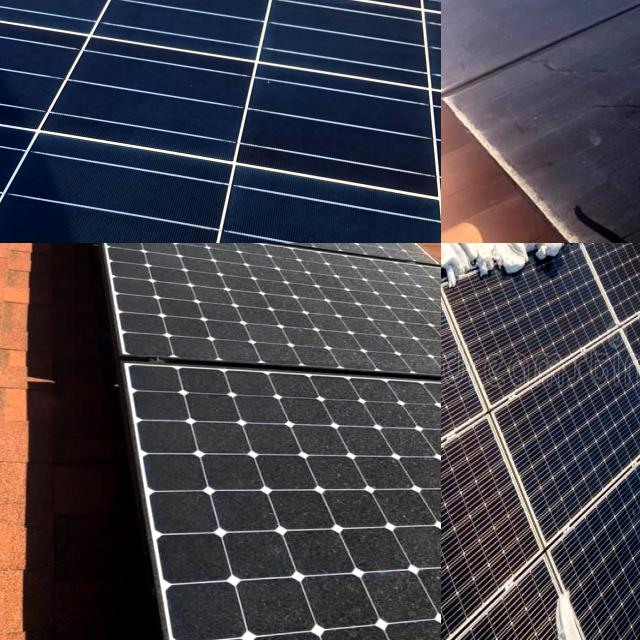crack: (0, 0, 441, 243)
dust: (140, 374, 310, 552), (513, 40, 640, 243), (335, 384, 441, 551), (138, 243, 283, 355), (441, 0, 640, 71), (225, 579, 441, 640), (333, 263, 441, 382), (184, 243, 317, 295), (244, 243, 384, 278)
panel: (441, 243, 538, 324), (441, 544, 503, 640), (535, 566, 610, 640), (441, 243, 480, 324), (551, 243, 621, 283), (441, 454, 472, 538), (441, 293, 448, 370)
